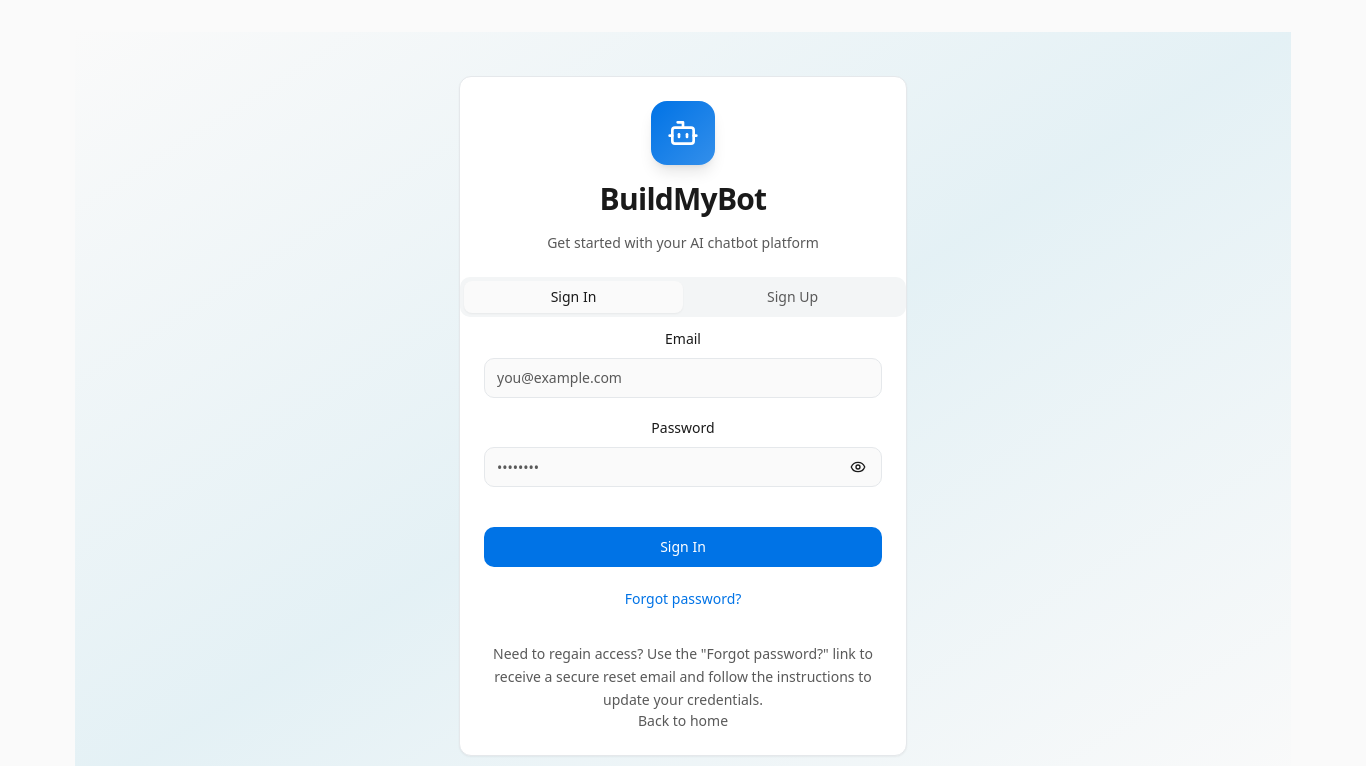
Test: Auth Component › should switch to signup form
Click the tab "Sign Up" at (792, 297), box [683,281,902,313]
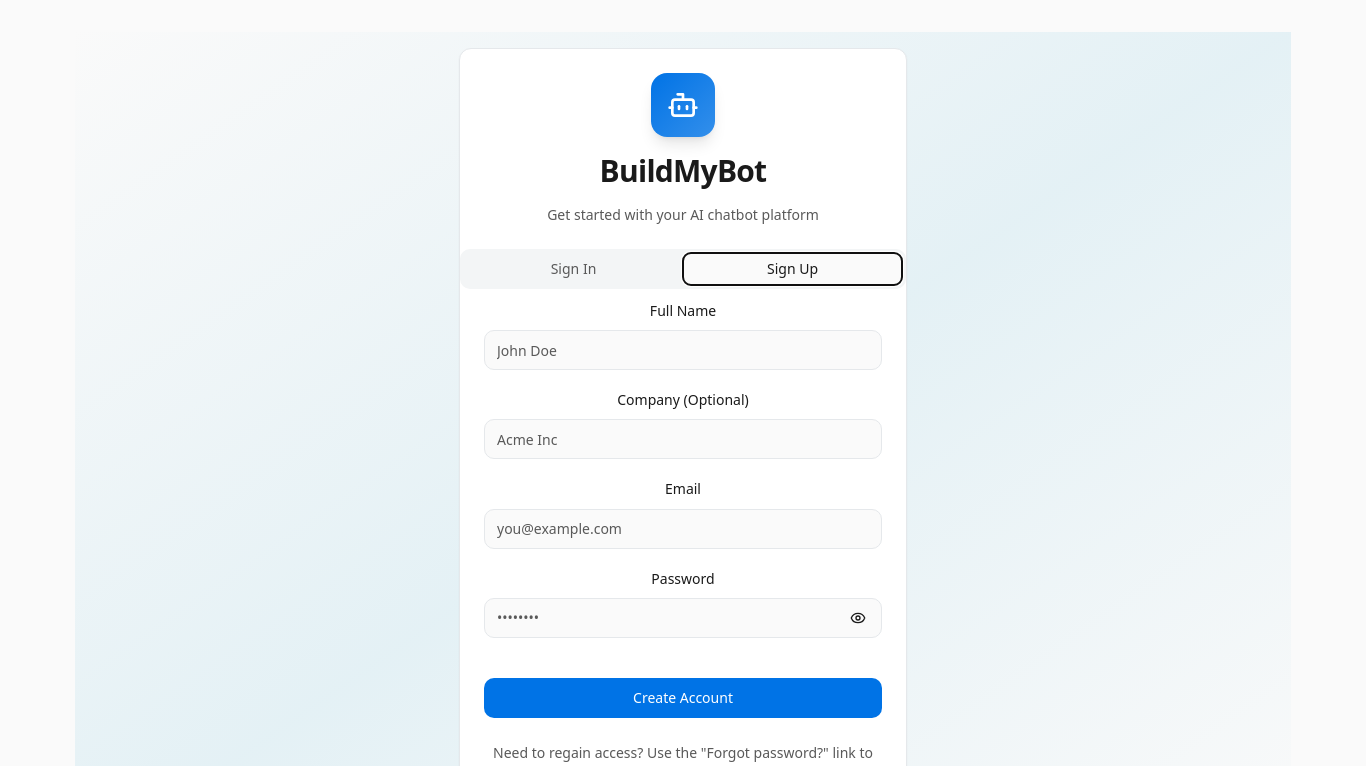
Expected: the field labelled "Full Name" is shown, [484,330,882,370]
Expected: the field labelled "Email" is shown, [484,509,882,549]
